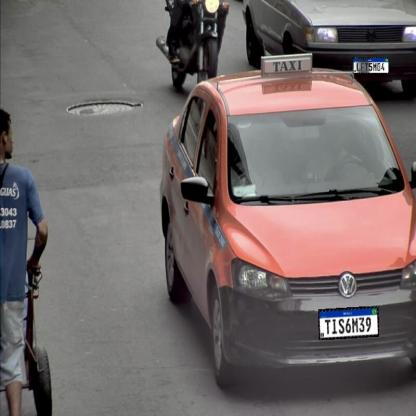PlacaM: (318, 306, 379, 340), (353, 58, 389, 74)
